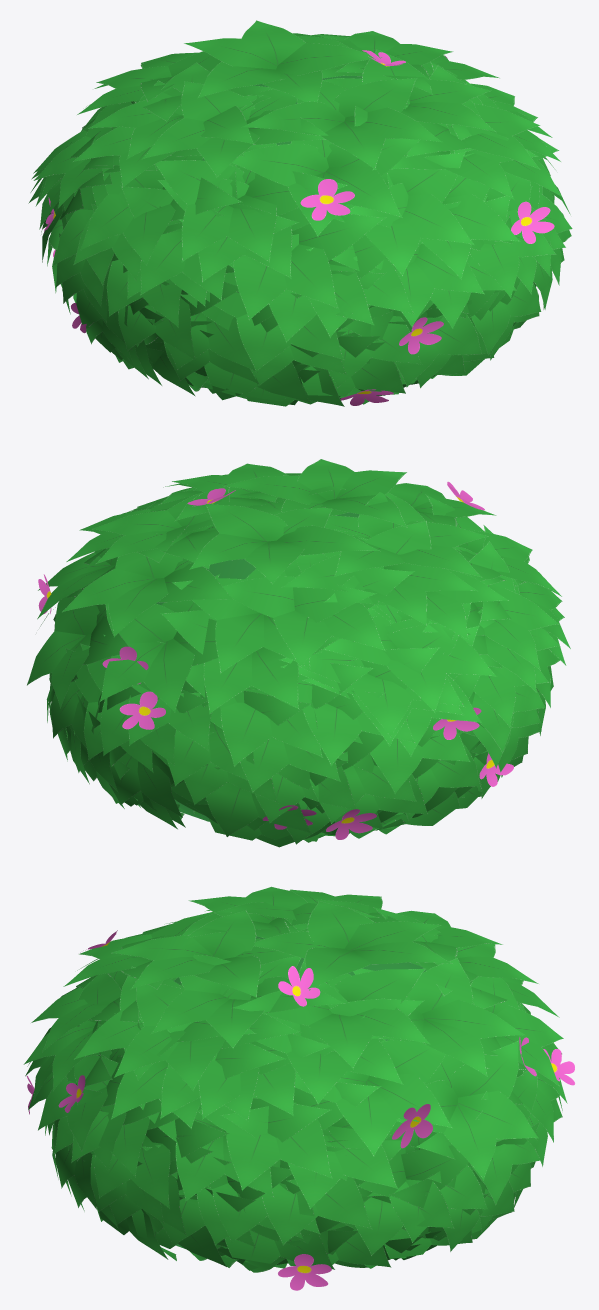
Rendered from Bush3.fbx.
The picture shows the model from 3 angles, top to bottom: view 1: azimuth 30°, elevation 25°; view 2: azimuth 150°, elevation 25°; view 3: azimuth 270°, elevation 25°; orthographic projection.
Visible parts, largest first — view 1: Bush2; view 2: Bush2; view 3: Bush2.
Boxes of the visible parts, x1,y1,x2,y2 form: Bush2: (28, 20, 572, 406); Bush2: (27, 459, 570, 847); Bush2: (23, 886, 575, 1290).
Bounding box in the file's own units: 3.42 × 3.42 × 1.83.
3 materials, 2 textured.
